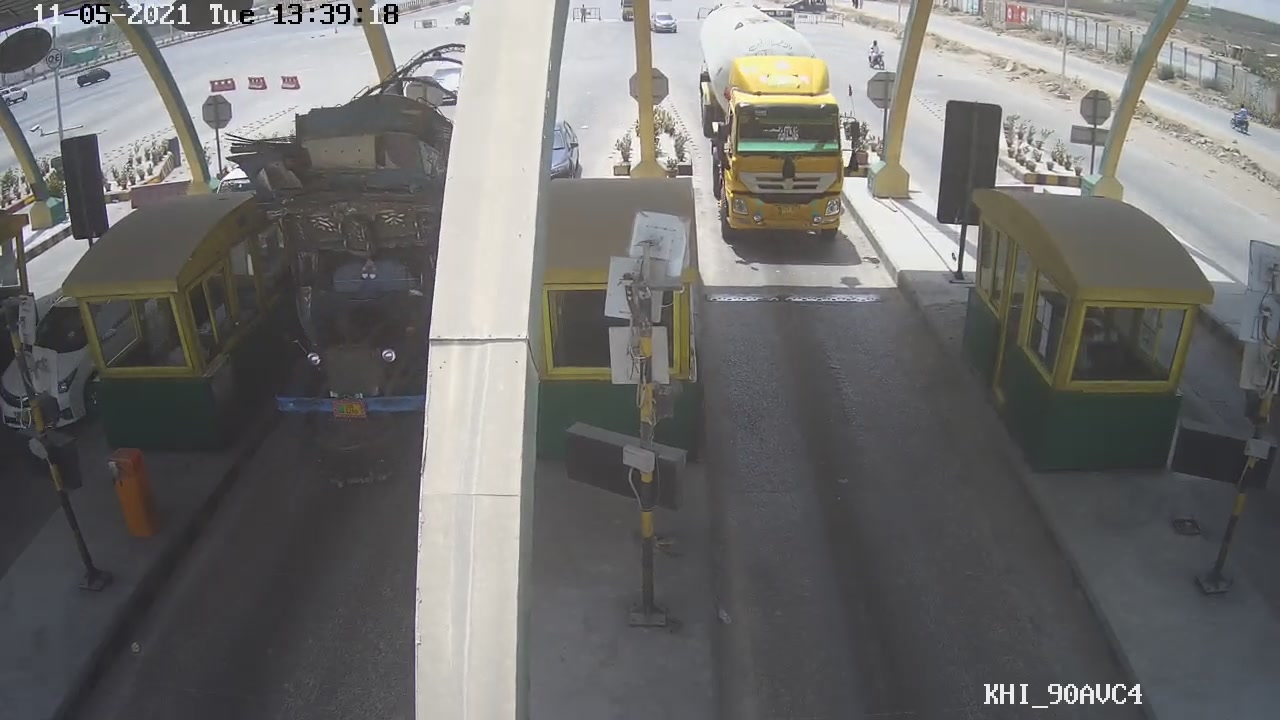F6: (694, 32, 871, 249)
